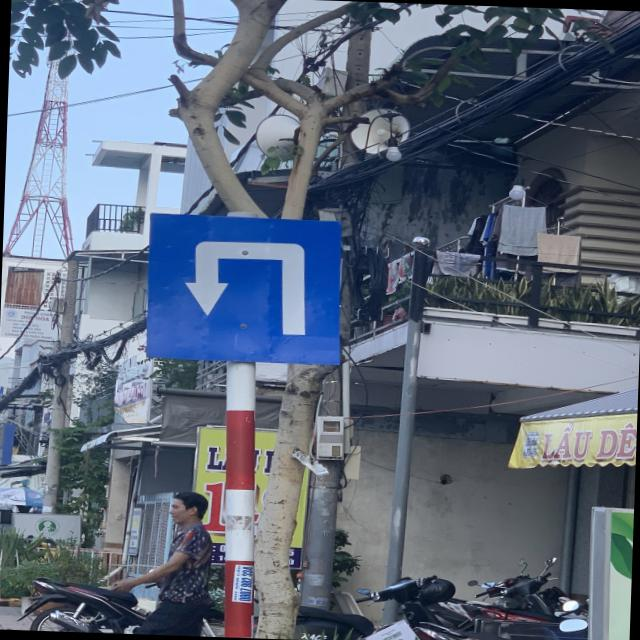Den_Giao_Thong: (145, 212, 341, 364)
